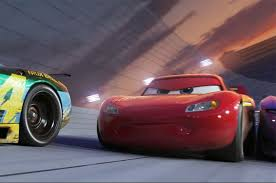mcqueen: (97, 71, 258, 165)
